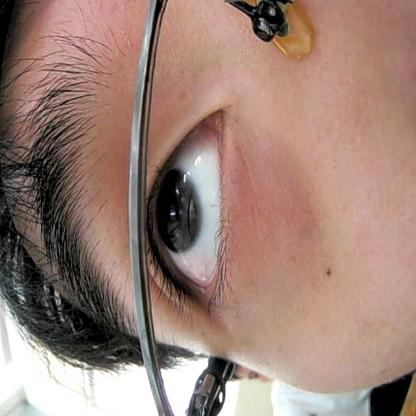Up: (142, 100, 242, 332)
